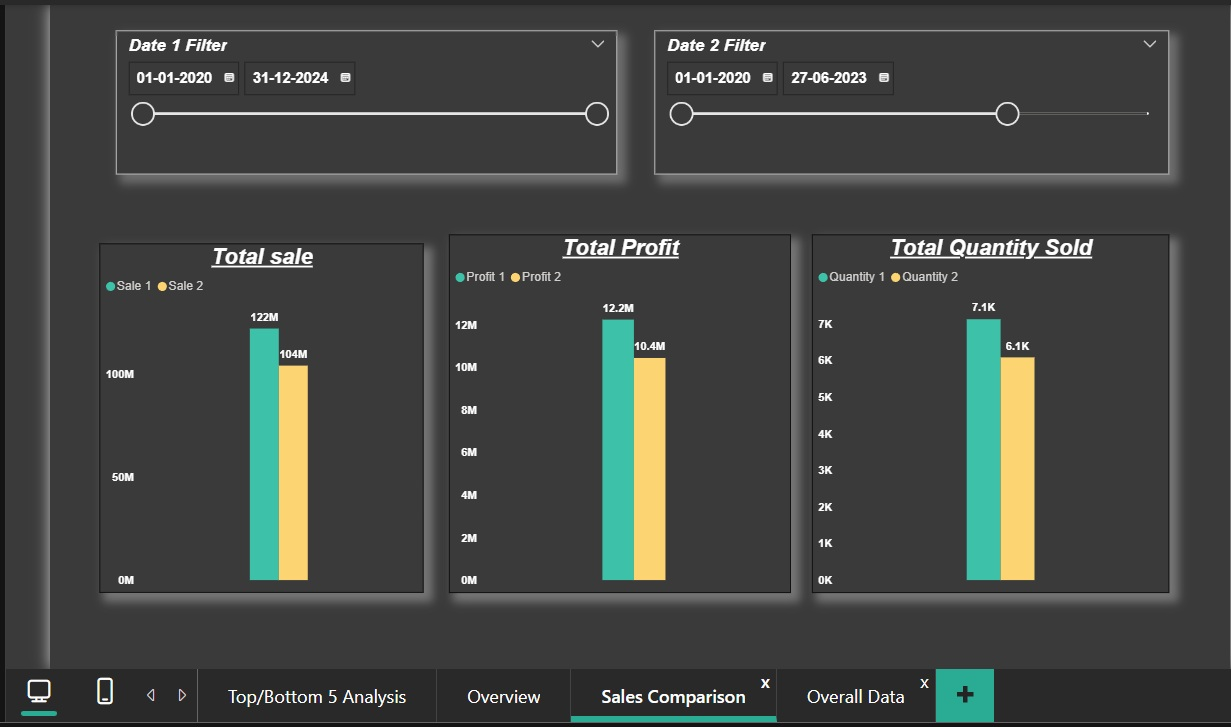

What the dashboard file says about the page in this screenshot:
{"tool":"powerbi","page":{"name":"Sales Comparison","canvas":[1280,720],"ordinal":2},"visuals":[{"type":"slicer","fields":{"Values":["Date Table 1.Date"]},"box":[71.6,27.7,543.3,156.1],"z":0},{"type":"slicer","fields":{"Values":["Date Table 2.Date"]},"box":[655.5,27.7,557.9,156.1],"z":1000},{"type":"clusteredColumnChart","title":"Total sale ","fields":{"Y":["Sum(Fact Data.Net sale )","Date Table 1.Sum of Net sale"]},"box":[53.7,258.6,351.3,379],"z":2000},{"type":"clusteredColumnChart","title":"Total Profit","fields":{"Y":["Sum(Fact Data.Profit)","Measurement.Sum of new profit"]},"box":[432.7,248.9,370.9,388.7],"z":3000},{"type":"clusteredColumnChart","title":"Total Quantity Sold ","fields":{"Y":["Sum(Fact Data.Units Sold)","Measurement.Sum of quantity Sold"]},"box":[826.3,248.9,387.1,388.7],"z":4000}]}

Visuals, with their boxes on the page's 1280x720 design canvas (x1, y1, x2, y2). These are canvas units, not pixel positions in the 1231x727 screenshot, which may show the page scaled, cropped or inside an application window:
slicer - Date Table 1.Date: 72, 28, 615, 184
slicer - Date Table 2.Date: 656, 28, 1213, 184
"Total sale " clusteredColumnChart: 54, 259, 405, 638
"Total Profit" clusteredColumnChart: 433, 249, 804, 638
"Total Quantity Sold " clusteredColumnChart: 826, 249, 1213, 638
